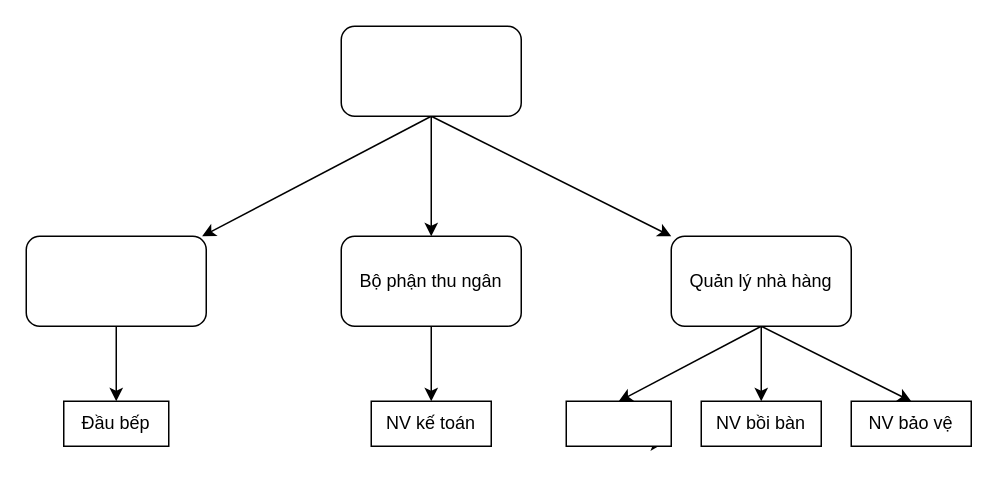
Some shapes in this 998 by 485 pixel diagram are drawn without their labels. Each missing label, with the centre of its shape:
"Bộ phận bếp" goes at (115,280).
"Chủ nhà hàng" goes at (430,70).
"NV lễ tân" goes at (618,423).
